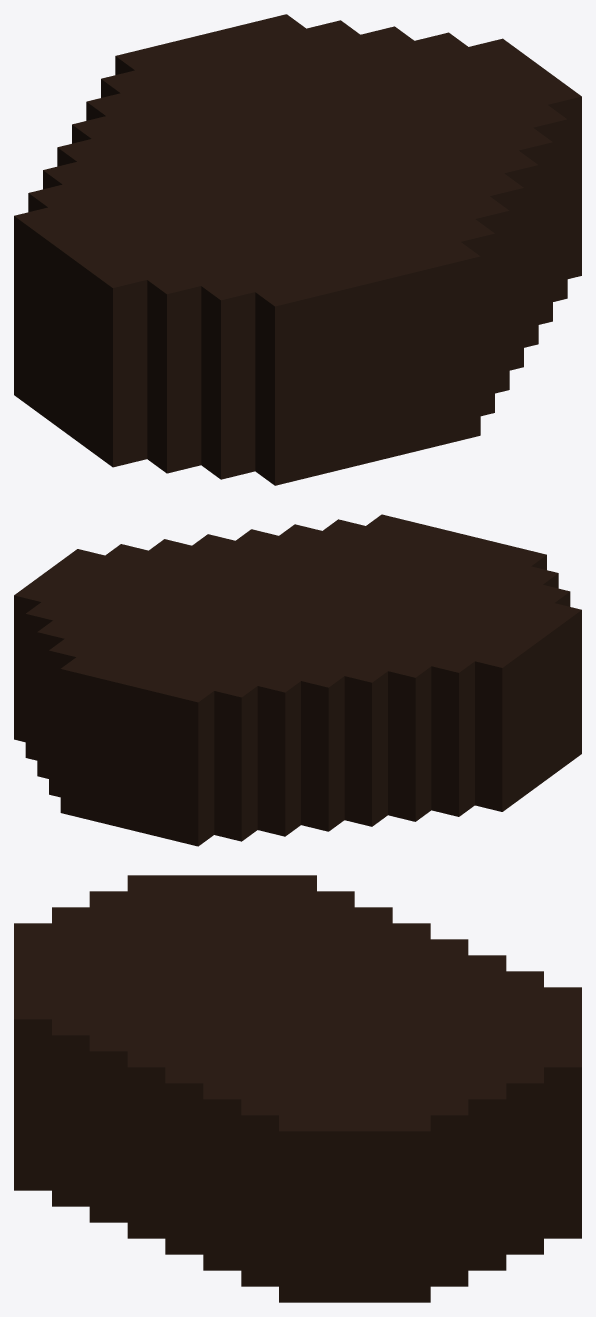
File: one.fbx
3 renders of one model, top to bottom at view 1: azimuth 30°, elevation 25°; view 2: azimuth 150°, elevation 25°; view 3: azimuth 270°, elevation 25°, orthographic. The views are drawn at different scales.
Visible parts, largest first — view 1: Cell_Clone__Clone__809, Cell_Clone__Clone__719, Cell_Clone__Clone__769, Cell_Clone__Clone__839, Cell_Clone__Clone__683, Cell_Clone__Clone__729, Cell_Clone__Clone__671, Cell_Clone__Clone__695, Cell_Clone__Clone__707, Cell_Clone__Clone__739, Cell_Clone__Clone__749, Cell_Clone__Clone__777 (+208 smaller); view 2: Cell_Clone__Clone__24, Cell_Clone__Clone__369, Cell_Clone__Clone__449, Cell_Clone__Clone__294, Cell_Clone__Clone__59, Cell_Clone__Clone__104, Cell_Clone__Clone__224, Cell_Clone__Clone__159, Cell_Clone__Clone__9, Cell_Clone__Clone__4, Cell_Clone__Clone__14, Cell_Clone__Clone__19 (+220 smaller); view 3: Cell_Clone__Clone__96, Cell_Clone__Clone__149, Cell_Clone__Clone__212, Cell_Clone__Clone__281, Cell_Clone__Clone__581, Cell_Clone__Clone__647, Cell_Clone__Clone__708, Cell_Clone__Clone__760, Cell_Clone__Clone__20, Cell_Clone__Clone__53, Cell_Clone__Clone__355, Cell_Clone__Clone__434 (+216 smaller).
Part boxes in pixels (box(x1,y1,x2,y2)): Cell_Clone__Clone__809: box(201, 277, 255, 336); Cell_Clone__Clone__719: box(93, 265, 147, 323); Cell_Clone__Clone__769: box(147, 271, 201, 329); Cell_Clone__Clone__839: box(255, 283, 309, 342); Cell_Clone__Clone__683: box(93, 381, 147, 431); Cell_Clone__Clone__729: box(147, 423, 201, 473); Cell_Clone__Clone__671: box(93, 417, 147, 467); Cell_Clone__Clone__695: box(93, 345, 147, 395); Cell_Clone__Clone__707: box(93, 310, 147, 359); Cell_Clone__Clone__739: box(147, 388, 201, 437); Cell_Clone__Clone__749: box(147, 352, 201, 401); Cell_Clone__Clone__777: box(201, 430, 255, 479); Cell_Clone__Clone__24: box(170, 684, 214, 730); Cell_Clone__Clone__369: box(431, 654, 474, 701); Cell_Clone__Clone__449: box(475, 649, 518, 696); Cell_Clone__Clone__294: box(388, 659, 431, 706); Cell_Clone__Clone__59: box(214, 679, 257, 726); Cell_Clone__Clone__104: box(257, 674, 300, 721); Cell_Clone__Clone__224: box(344, 664, 387, 711); Cell_Clone__Clone__159: box(301, 669, 344, 716); Cell_Clone__Clone__9: box(170, 777, 214, 817); Cell_Clone__Clone__4: box(170, 806, 214, 846); Cell_Clone__Clone__14: box(170, 749, 214, 788); Cell_Clone__Clone__19: box(170, 720, 214, 759); Cell_Clone__Clone__96: box(468, 1083, 506, 1133); Cell_Clone__Clone__149: box(430, 1099, 468, 1149); Cell_Clone__Clone__212: box(392, 1115, 430, 1165); Cell_Clone__Clone__281: box(354, 1115, 392, 1165); Cell_Clone__Clone__581: box(203, 1083, 241, 1133); Cell_Clone__Clone__647: box(165, 1067, 203, 1117); Cell_Clone__Clone__708: box(127, 1051, 165, 1101); Cell_Clone__Clone__760: box(89, 1035, 127, 1085); Cell_Clone__Clone__20: box(544, 1051, 581, 1101); Cell_Clone__Clone__53: box(506, 1067, 543, 1117); Cell_Clone__Clone__355: box(317, 1115, 354, 1165); Cell_Clone__Clone__434: box(279, 1115, 316, 1165).
Size of the model in its own units: 1600 by 500 by 1500.
